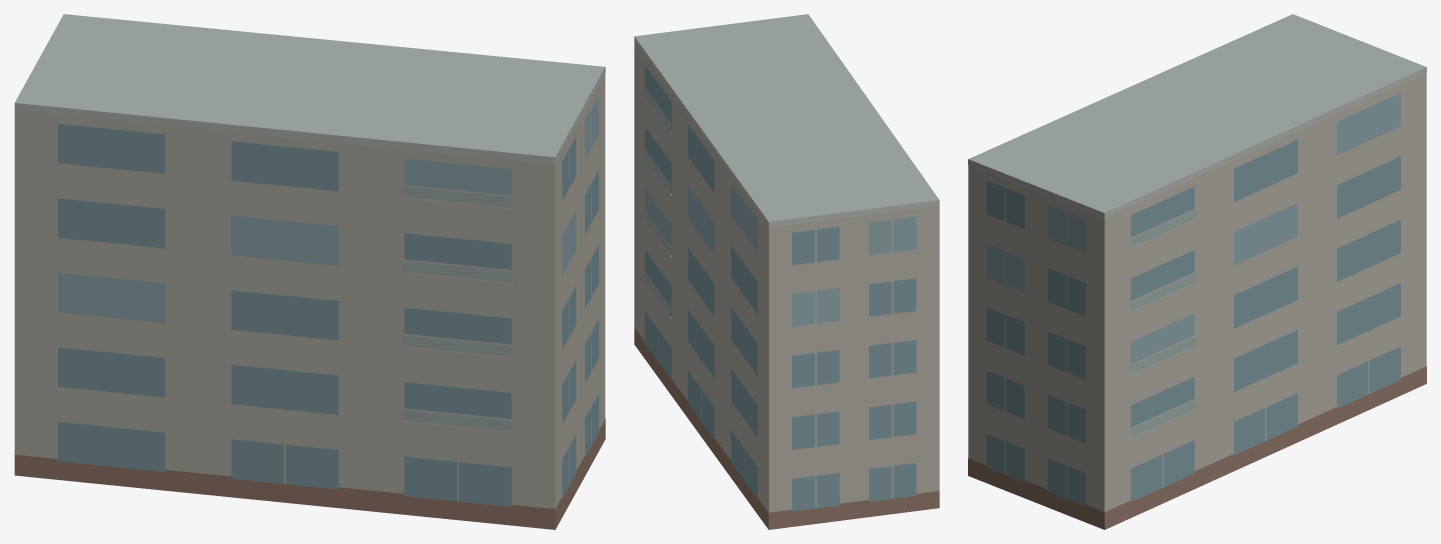
File: survey-upis-33042834.glb
The picture shows the model from 3 angles, left to right: view 1: azimuth 30°, elevation 25°; view 2: azimuth 150°, elevation 25°; view 3: azimuth 270°, elevation 25°; orthographic projection. The views are drawn at different scales.
Visible parts, largest first — view 1: survey-upis-33042834.tmp; view 2: survey-upis-33042834.tmp; view 3: survey-upis-33042834.tmp.
Part boxes in pixels (<box>): survey-upis-33042834.tmp: <box>14,14,605,529</box>; survey-upis-33042834.tmp: <box>634,14,939,529</box>; survey-upis-33042834.tmp: <box>968,14,1426,529</box>.
Bounding box in the file's own units: 17.81 × 13.2 × 17.33.
